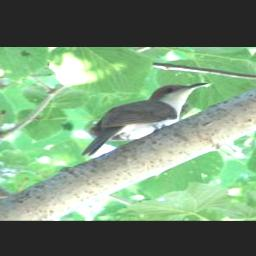Cuckoo: (79, 81, 211, 158)
